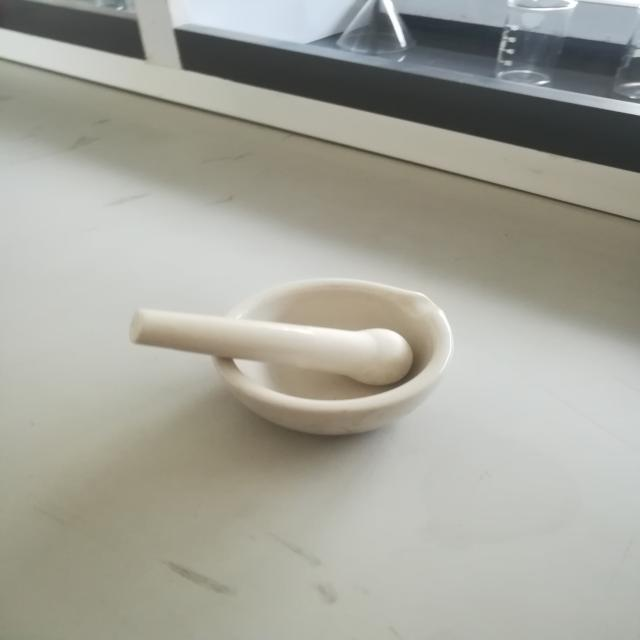Porcelain_Mortar Pestle: (93, 228, 493, 475)
